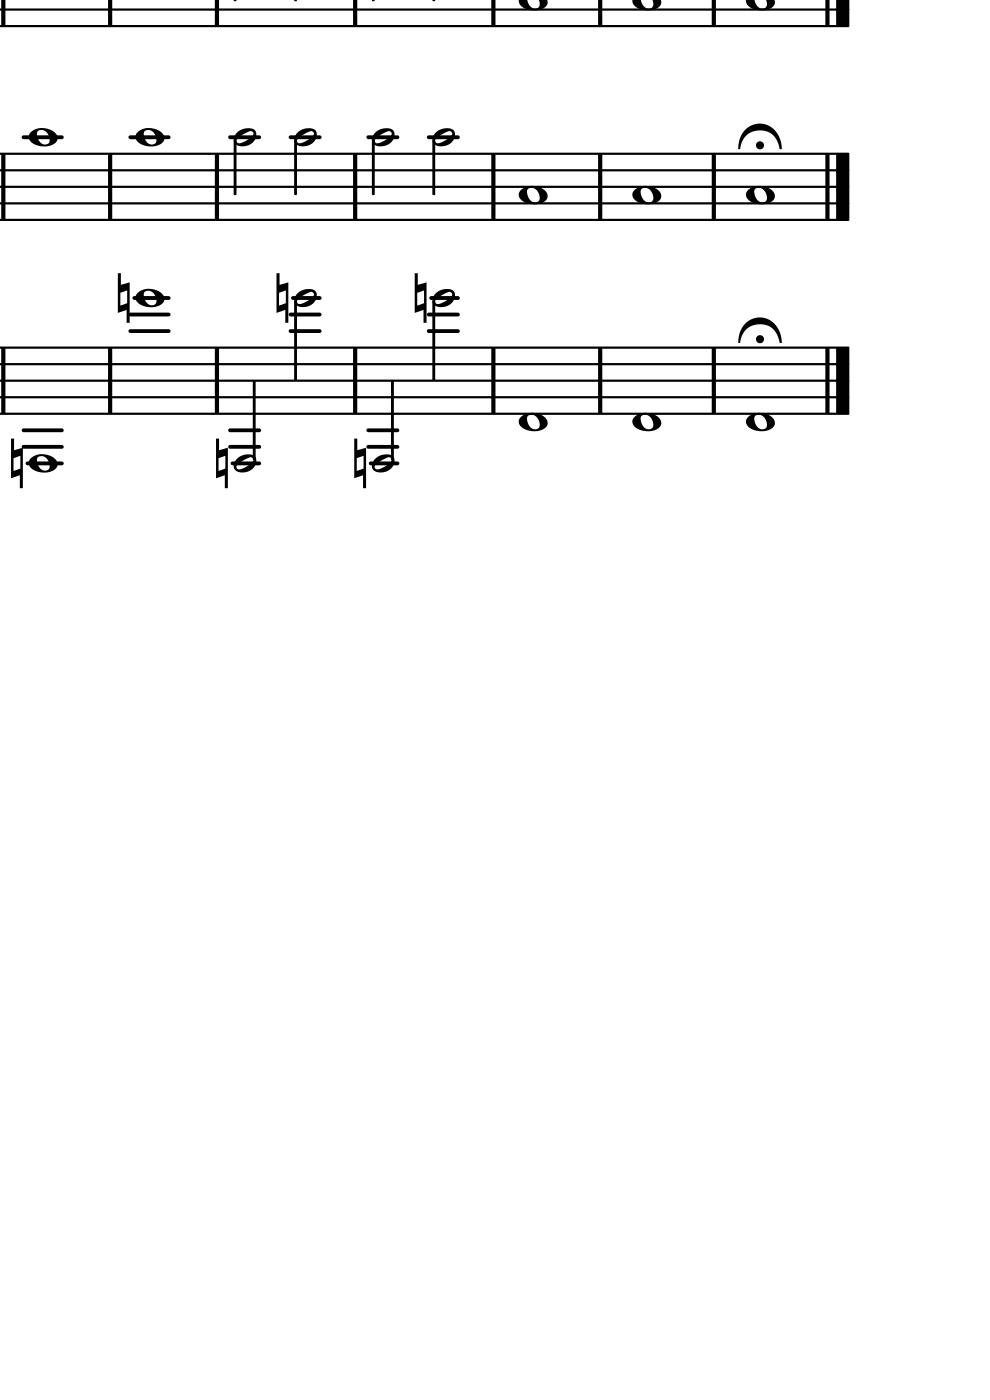1_-1: (629, 344, 663, 435), (742, 345, 776, 436), (516, 345, 549, 435)
1_-6: (22, 347, 64, 473)
1_10: (131, 125, 168, 224), (24, 126, 60, 224)
1_14: (131, 289, 171, 417)
1_3: (630, 151, 662, 223), (744, 151, 775, 224), (517, 151, 549, 223)
2_10: (289, 127, 321, 225), (229, 126, 260, 224), (367, 126, 399, 224), (427, 127, 457, 225)
2_14: (429, 289, 463, 416), (289, 287, 322, 415)
4_-6: (228, 345, 261, 475), (366, 345, 399, 475)
Fermata_above: (735, 314, 784, 347), (735, 120, 783, 153)
Final_barline: (822, 151, 851, 221), (821, 345, 850, 415)
Natural: (6, 435, 26, 490), (211, 435, 229, 490), (349, 435, 367, 490), (272, 271, 290, 323), (409, 271, 427, 323), (114, 271, 131, 323)
Single_barline: (590, 347, 610, 415), (100, 154, 119, 221), (208, 154, 227, 220), (346, 154, 365, 220), (590, 154, 610, 220), (704, 155, 723, 219), (484, 348, 502, 415), (704, 348, 722, 413), (484, 155, 502, 220), (101, 348, 118, 415), (208, 348, 225, 415), (346, 348, 363, 415), (1, 154, 13, 219), (1, 347, 11, 413)
